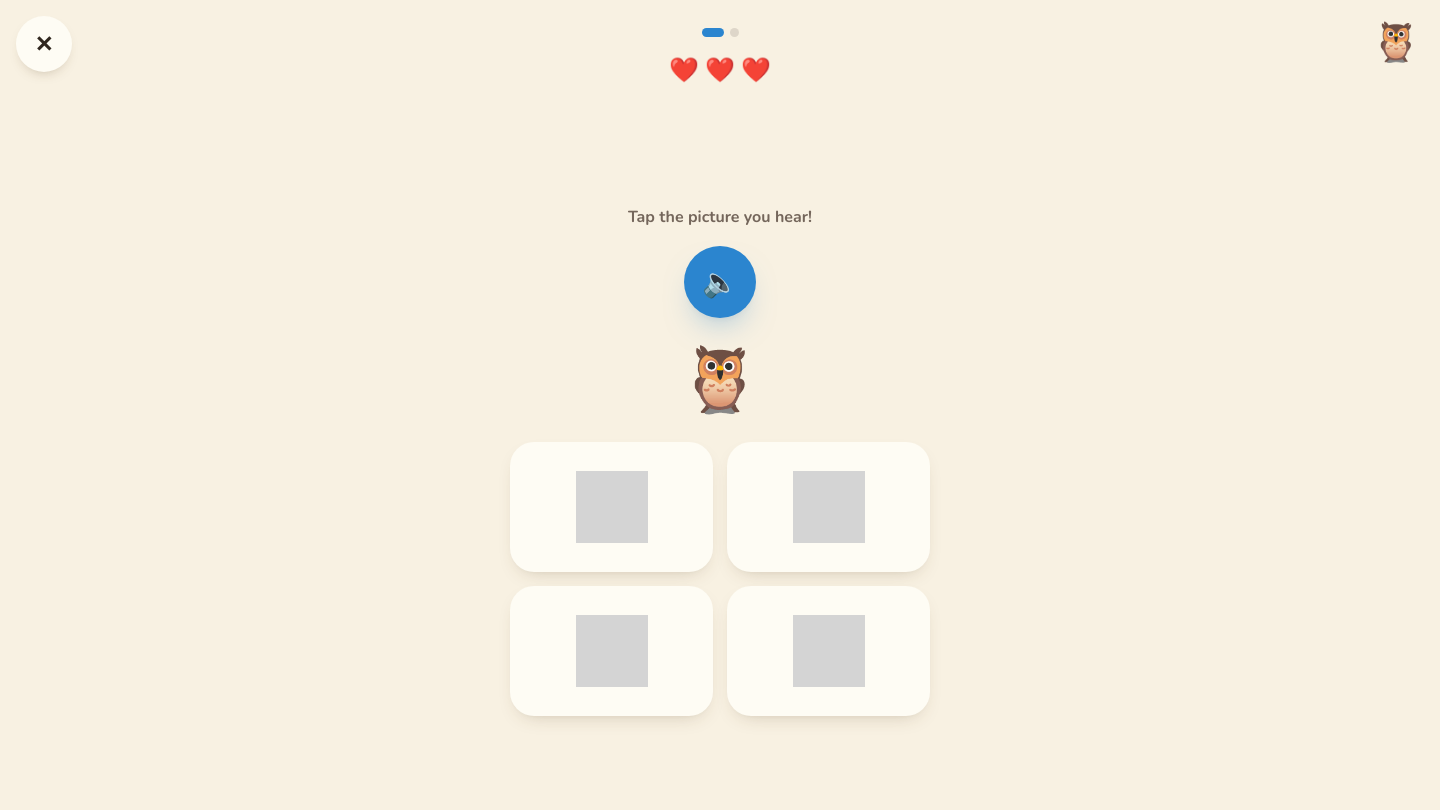
Test: hearts in a vocab session › spends exactly one heart for a failed word, and still reveals the answer
Step 1. Click the 4th button → point(828, 507), box left=727, top=442, right=930, bottom=572
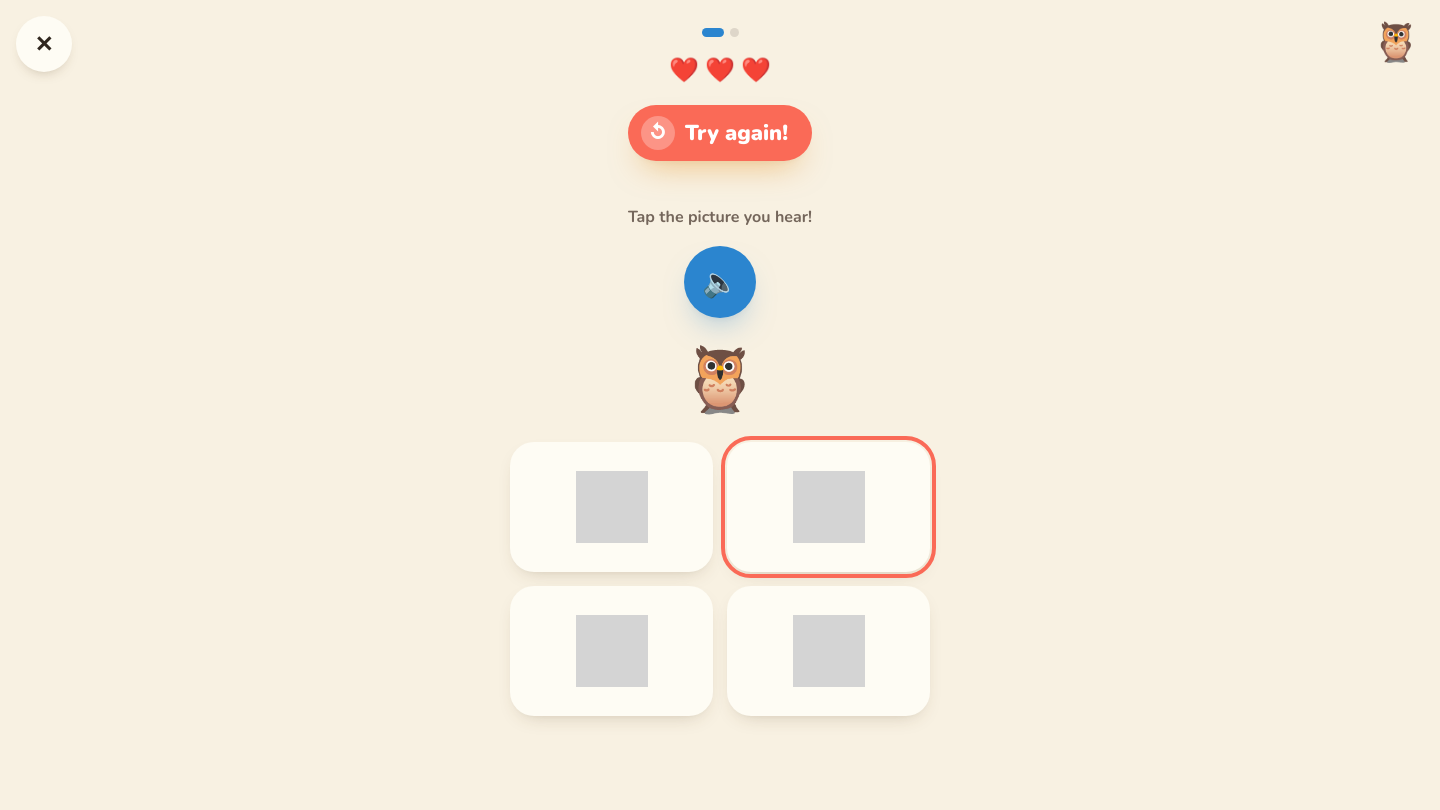
Step 2. Click the 4th button → point(828, 507), box left=727, top=442, right=930, bottom=572
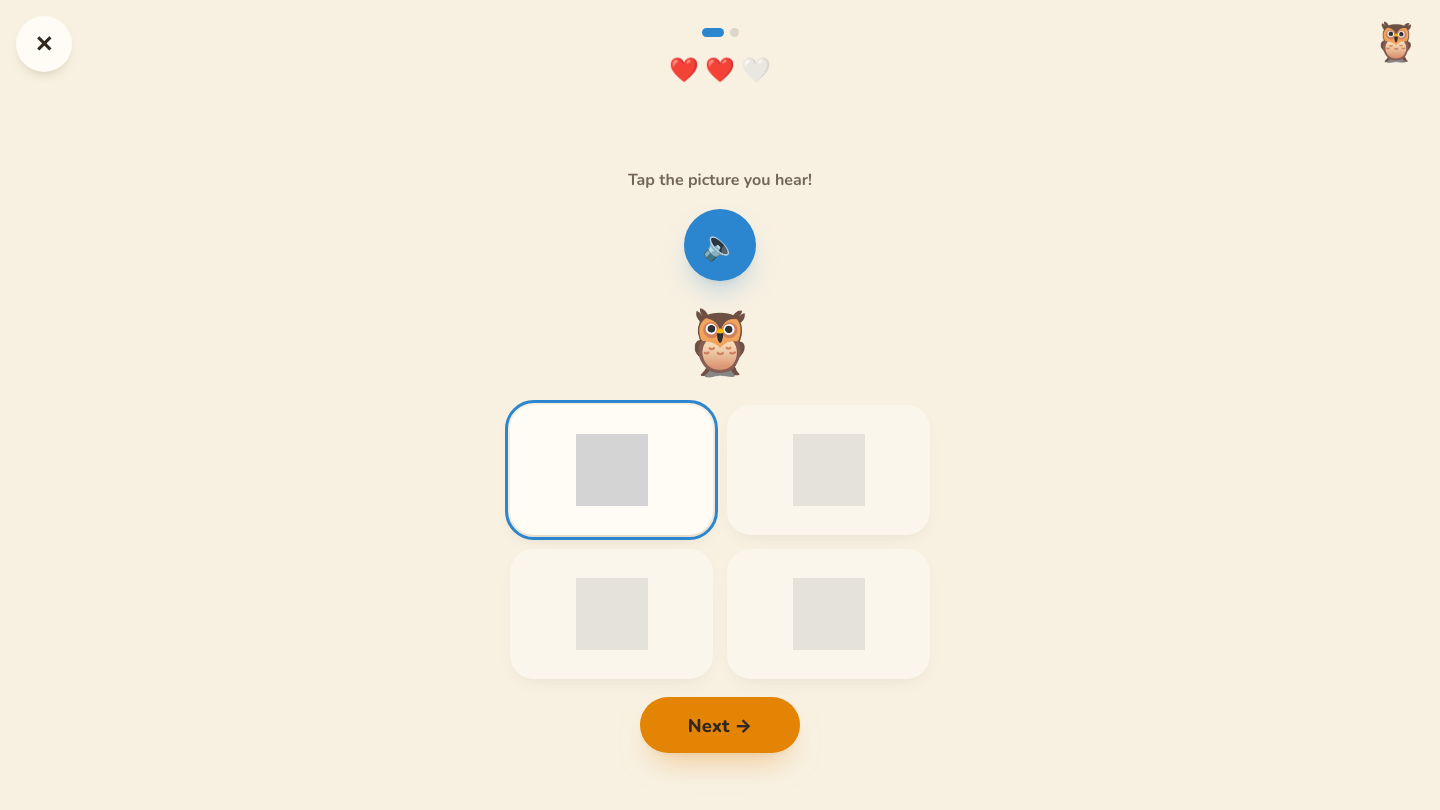
Check: the button "Next →" is shown, box left=640, top=697, right=800, bottom=753
